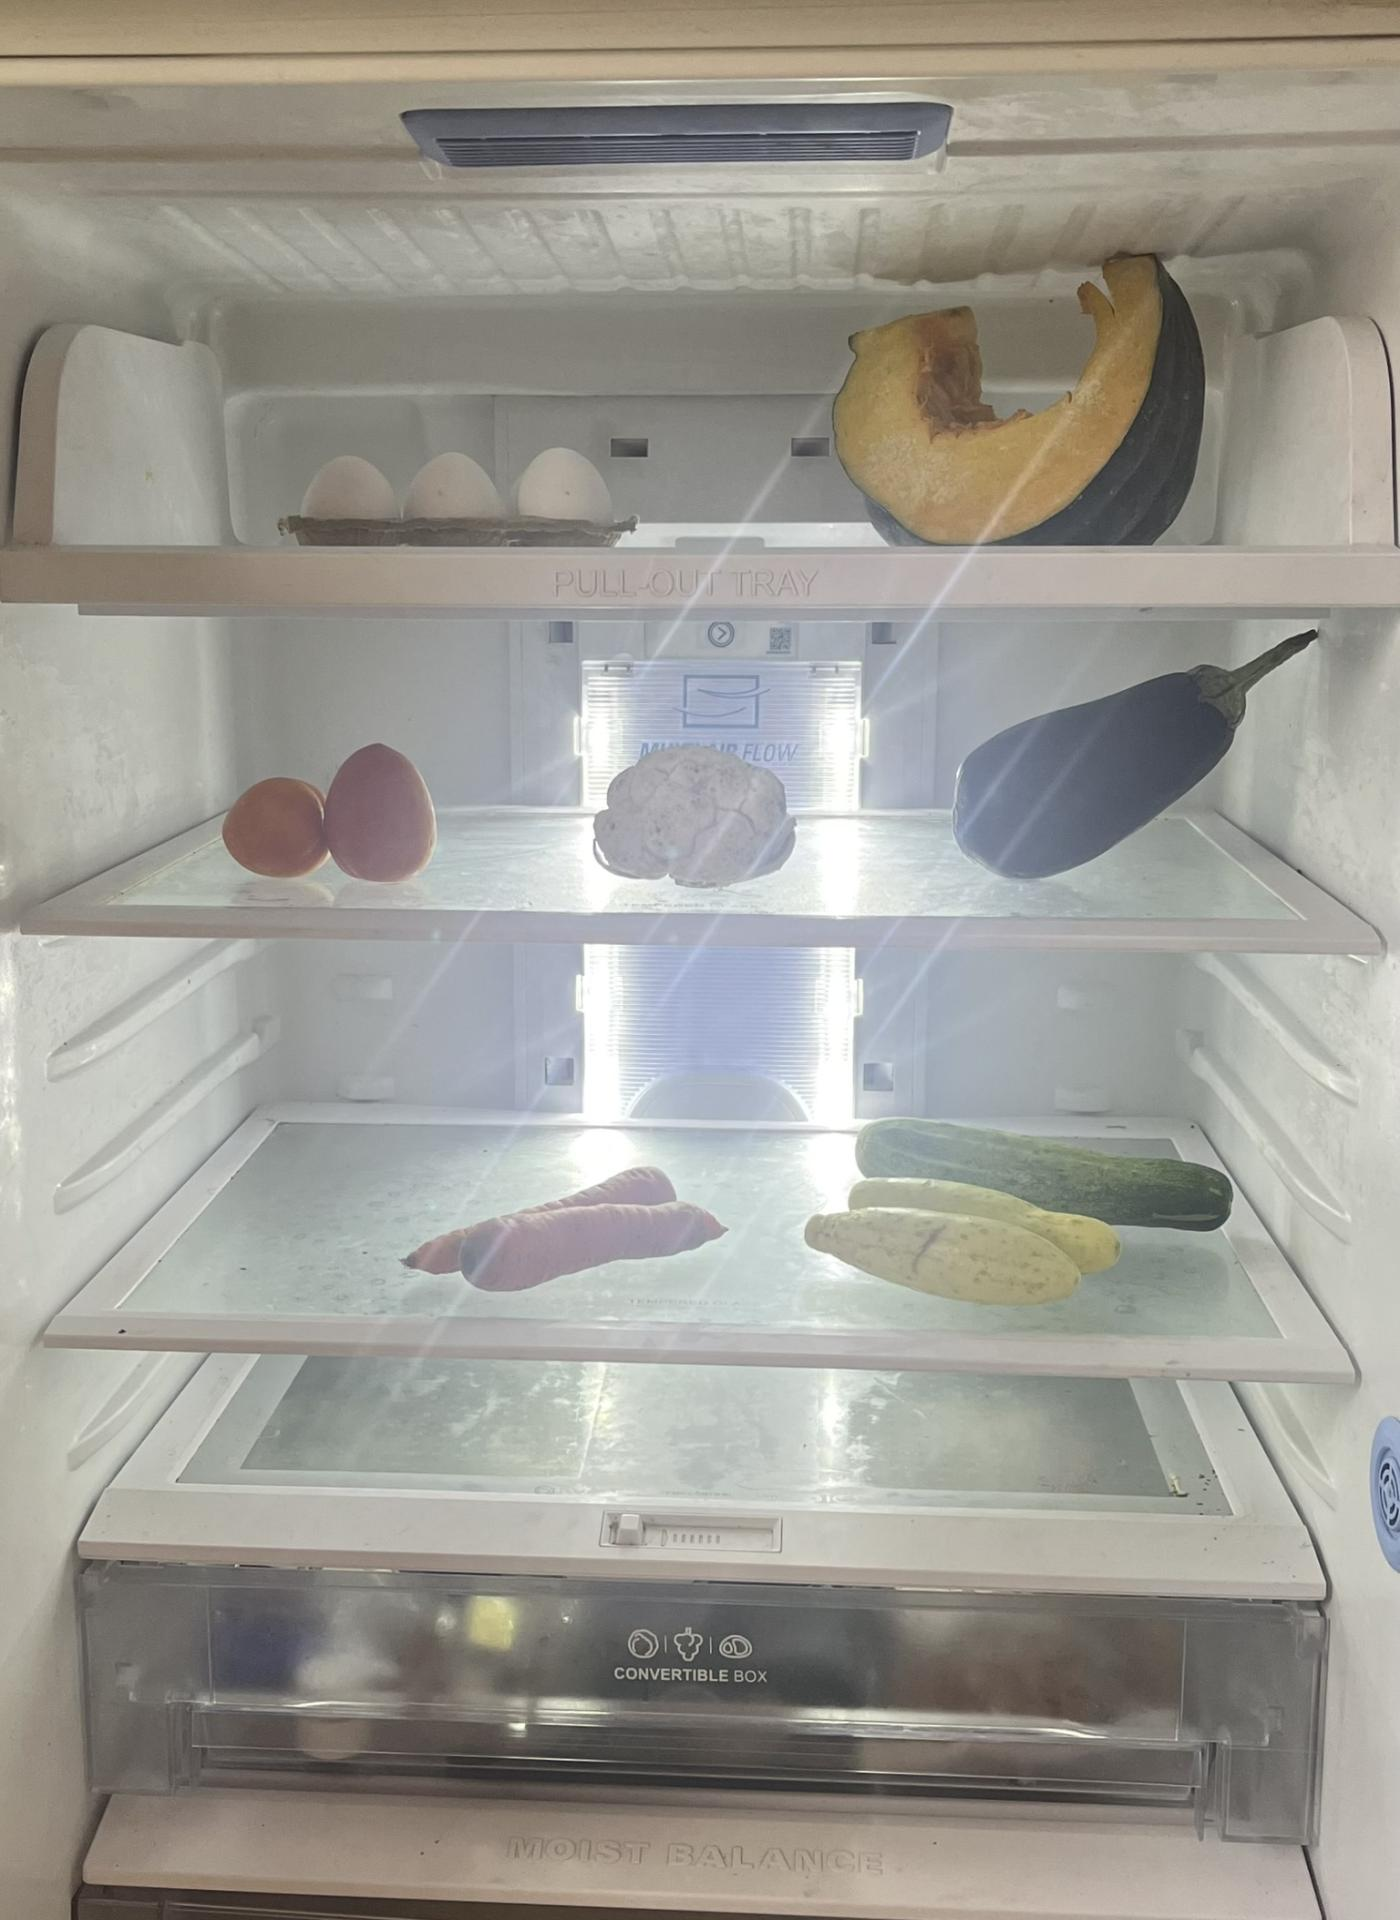brinjal: (944, 646, 1317, 874)
carrots: (398, 1166, 734, 1293)
cauliflower: (598, 747, 796, 884)
cucumber: (816, 1177, 1130, 1307), (861, 1114, 1236, 1218)
egg: (296, 450, 627, 524)
pumpkin: (836, 257, 1214, 548)
tomato: (222, 740, 431, 880)
